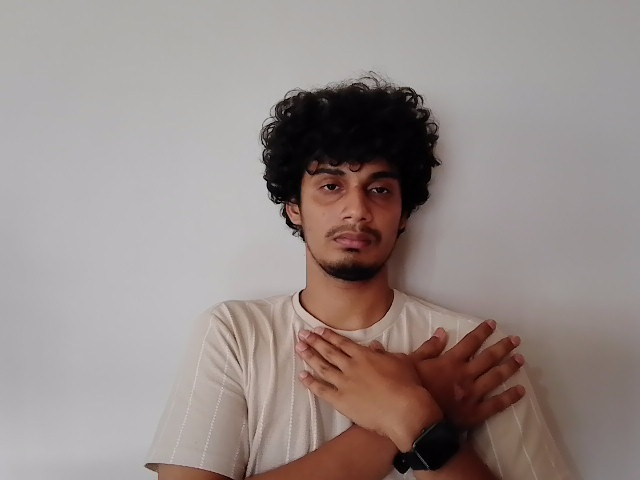relaxing: (295, 325, 539, 428)
